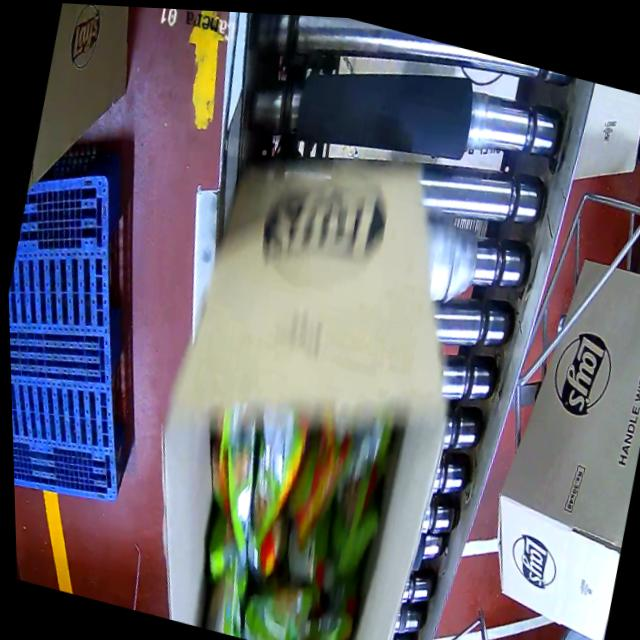YOGURT_HERB: (200, 388, 404, 640)
